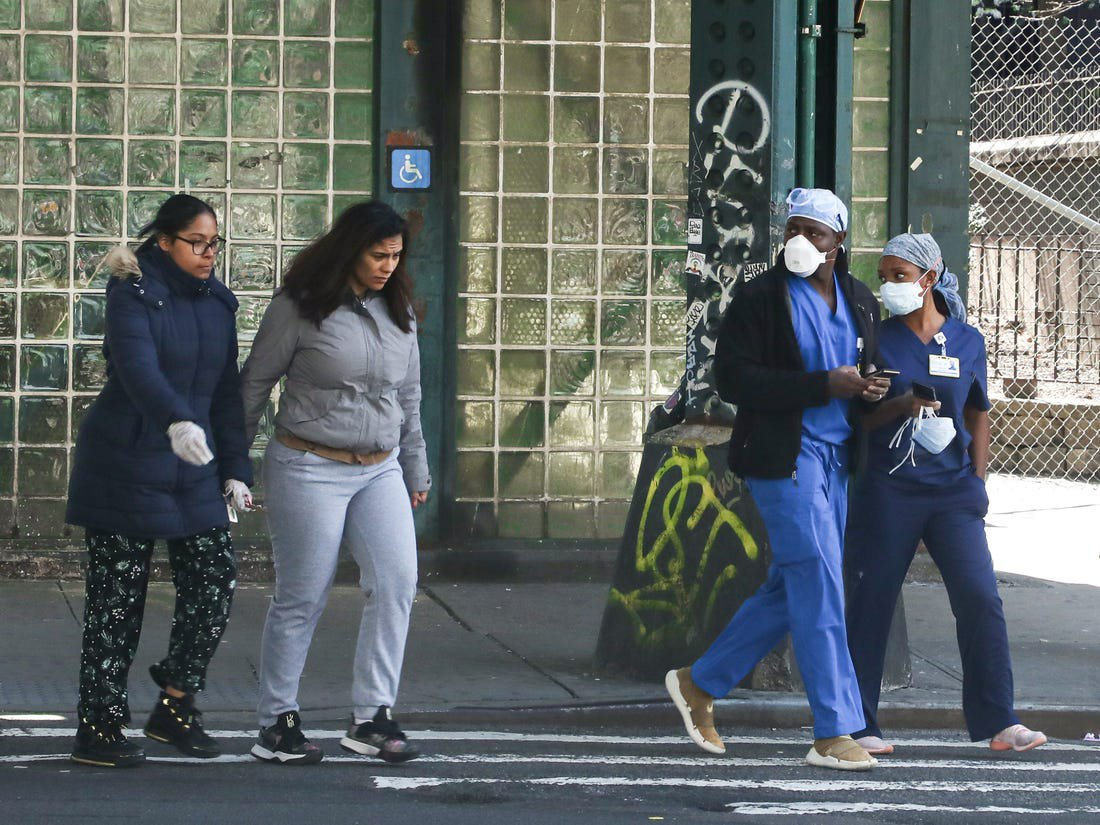mask: (778, 192, 864, 290), (875, 231, 948, 321)
noMask: (312, 194, 420, 305), (142, 183, 246, 294)
